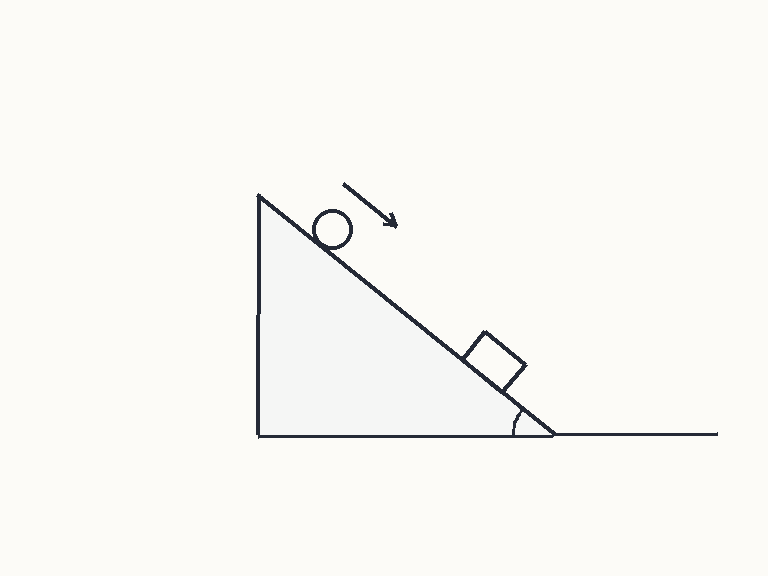ball: (310, 207, 354, 251)
block: (460, 329, 527, 394)
ramp: (256, 193, 555, 436)
